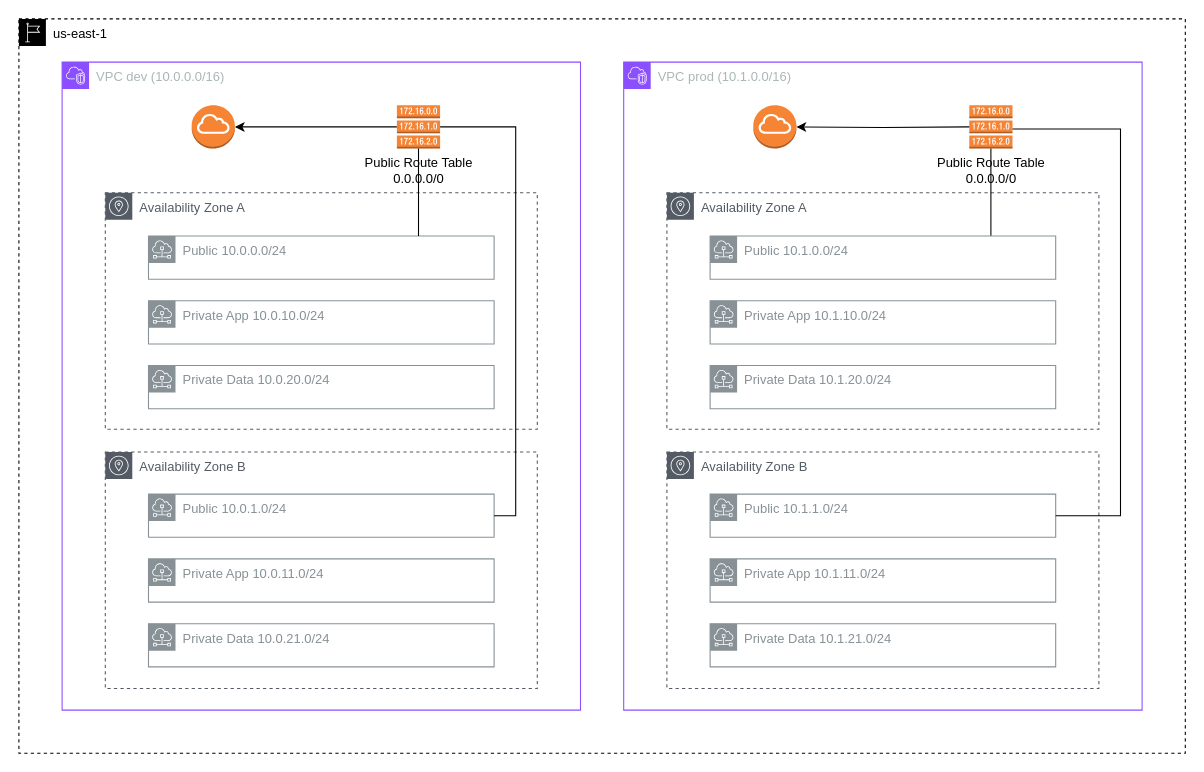
Image size: 1204x772. Some labels were removed from this diagram. The shapes that lost their labels are listed below. From the top down, each one's centre as x and y in pixels, then its label:
At [213,126]: "IGW dev".
At [774,126]: "IGW prod".
